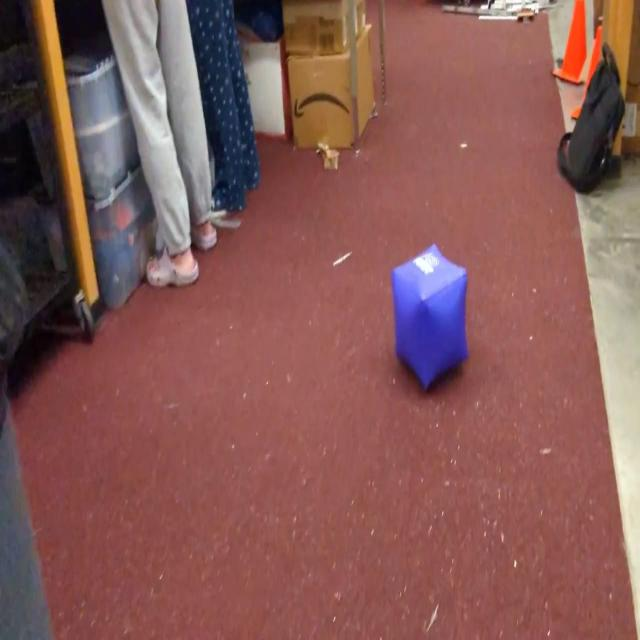frc_cube: (389, 242, 471, 394)
